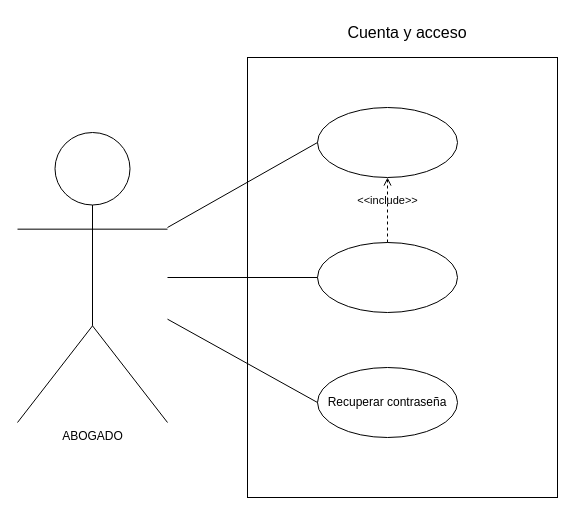
Image size: 575x515. Some labels were removed from this diagram. Here are the shapes that lost their labels. From the top down, the box of each, then its label:
(316, 106, 458, 178): Iniciar sesión
(316, 242, 458, 312): Gestionar perfil
